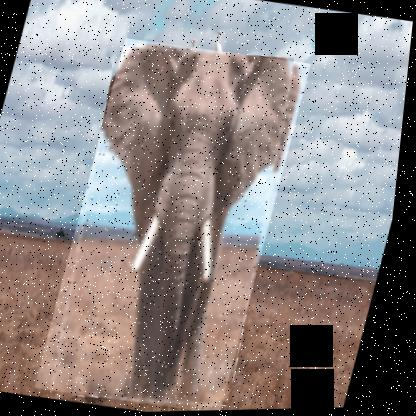Elephas-maximus: (40, 34, 317, 414)
